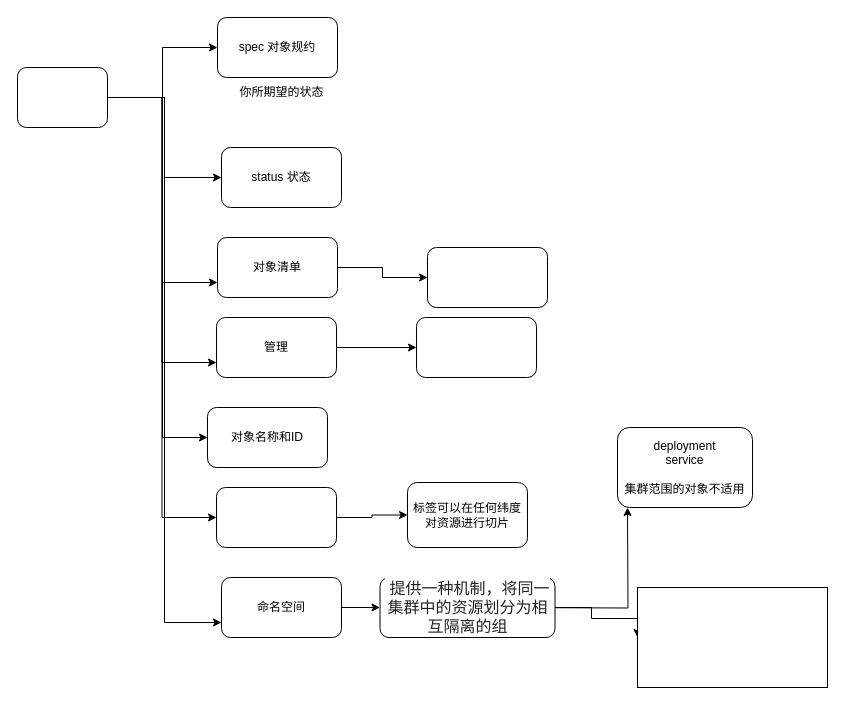
The diagram is 845 pixels wide and 705 high, and some of its shapes have lost their labels. The shapes that lost their labels are listed below. From the top down, each one's centre as x and y in pixels, then its label:
At point (62, 97): "对象".
At point (487, 277): "apiVersion Kind metadata.(name, namespace) spec".
At point (476, 347): "1.指令式 2.指令配置 3.声明式配置".
At point (276, 517): "标签和选择符".
At point (732, 637): "default kube-node-lease（检测节点故障） kube-public(整个集群可见的资源) kube-system(k8s 系统创建的对象）".
